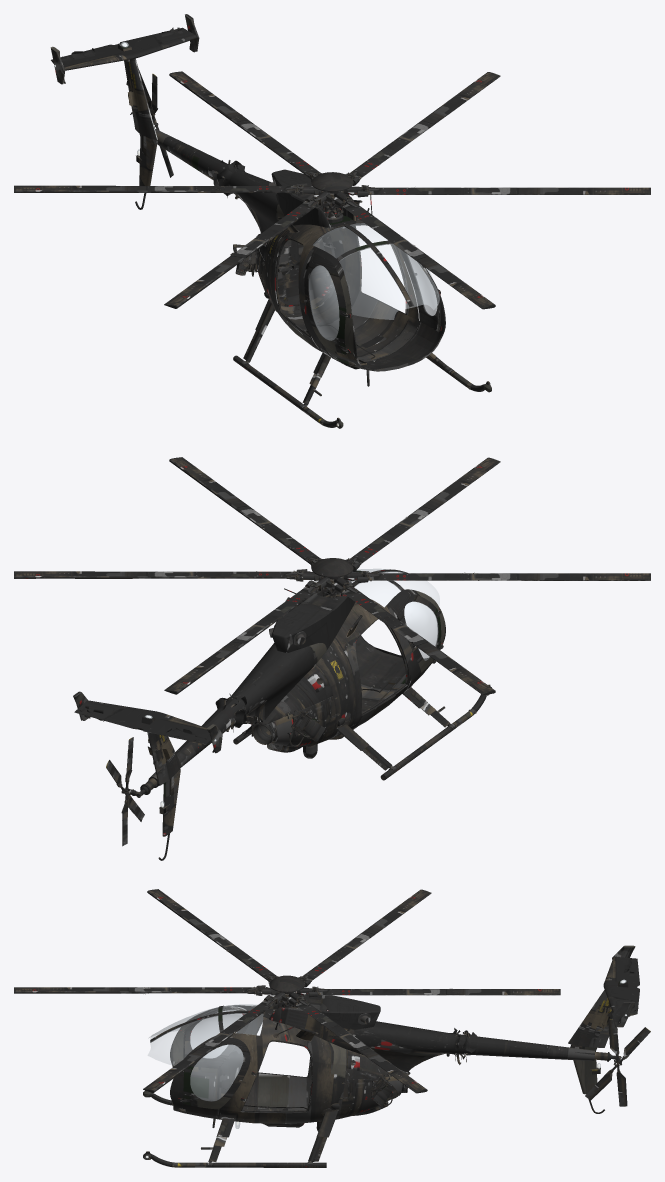
File: VEH_AH6M.glb
3 views of the same model, one above another, from view 1: azimuth 30°, elevation 25°; view 2: azimuth 150°, elevation 25°; view 3: azimuth 270°, elevation 25° (orthographic). The views are drawn at different scales.
Parts seen in each view (by area): view 1: ob_veh_helicopter_ah6m_base_s0, ob_veh_helicopter_ah6m_base_s2, ob_veh_helicopter_ah6m_base_s1, ob_veh_helicopter_ah6m_base_s5; view 2: ob_veh_helicopter_ah6m_base_s0, ob_veh_helicopter_ah6m_base_s2, ob_veh_helicopter_ah6m_base_s1, ob_veh_helicopter_ah6m_base_s5; view 3: ob_veh_helicopter_ah6m_base_s0, ob_veh_helicopter_ah6m_base_s2, ob_veh_helicopter_ah6m_base_s1, ob_veh_helicopter_ah6m_base_s5.
Boxes of the visible parts, box(x1,y1,x2,y2) form: ob_veh_helicopter_ah6m_base_s0: box(50, 14, 491, 428); ob_veh_helicopter_ah6m_base_s2: box(14, 71, 650, 309); ob_veh_helicopter_ah6m_base_s1: box(54, 42, 439, 426); ob_veh_helicopter_ah6m_base_s5: box(309, 254, 437, 340); ob_veh_helicopter_ah6m_base_s0: box(73, 515, 491, 860); ob_veh_helicopter_ah6m_base_s2: box(14, 457, 650, 694); ob_veh_helicopter_ah6m_base_s1: box(144, 568, 439, 807); ob_veh_helicopter_ah6m_base_s5: box(404, 602, 437, 660); ob_veh_helicopter_ah6m_base_s0: box(142, 939, 650, 1167); ob_veh_helicopter_ah6m_base_s2: box(14, 889, 560, 1093); ob_veh_helicopter_ah6m_base_s1: box(145, 979, 626, 1158); ob_veh_helicopter_ah6m_base_s5: box(190, 1010, 243, 1100).
Size of the model in its own units: 7.13 by 2.57 by 9.41.
6 materials, 4 textured.
